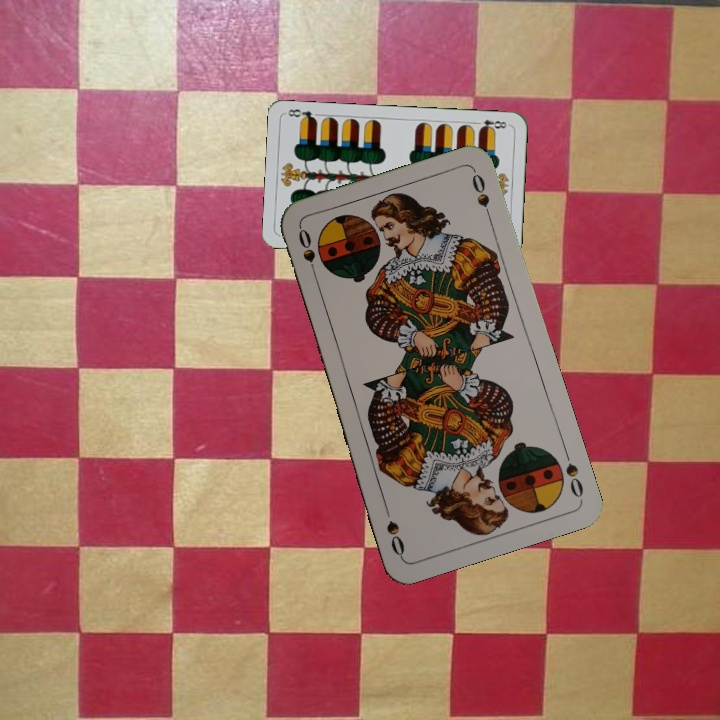E8: (471, 116, 511, 133)
SO: (559, 444, 586, 501), (294, 224, 320, 283)
